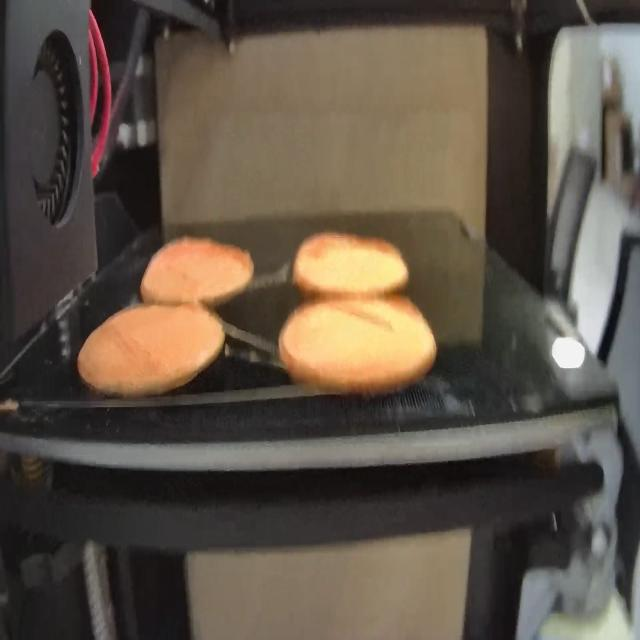over_extrusion: (334, 298, 391, 336), (351, 232, 401, 258), (227, 242, 254, 270), (180, 297, 205, 313)
